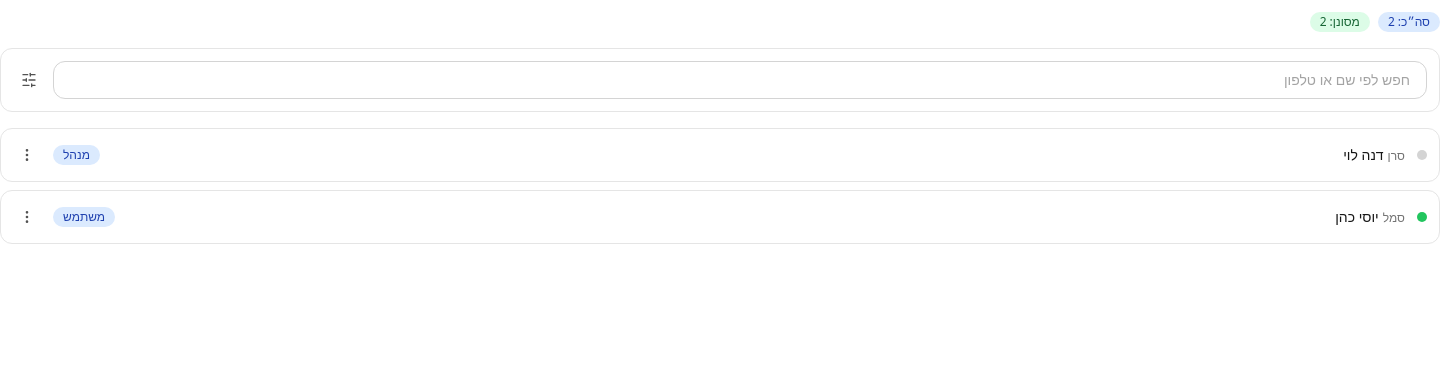
PersonnelTab › expands a row when the header is clicked
Click the button with aria-label "הרחב פרטים" at (1363,154), box [13,141,1427,169]
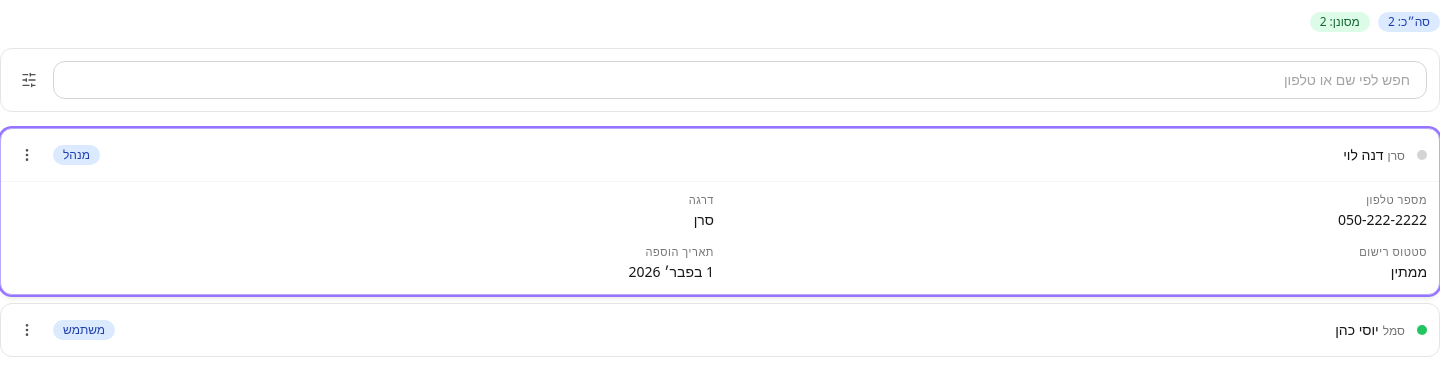
expect the text "מספר טלפון" is shown: met, box [1366,192,1427,207]
expect the text "תאריך הוספה" is shown: met, box [646,244,714,259]
